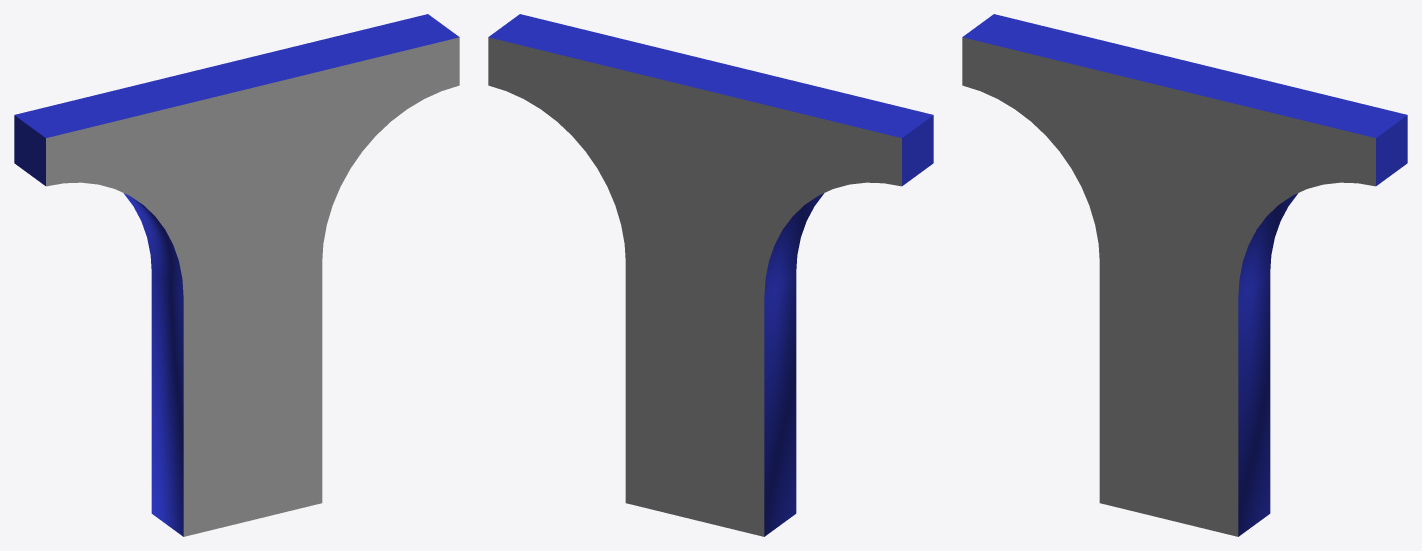
The model's file is Arch_01b.fbx.
The picture shows the model from 3 angles, left to right: view 1: azimuth 30°, elevation 25°; view 2: azimuth 150°, elevation 25°; view 3: azimuth 330°, elevation 25°; orthographic projection.
Visible parts, largest first — view 1: Arch_01b; view 2: Arch_01b; view 3: Arch_01b.
Part boxes in pixels (x1,y1,x2,y2): Arch_01b: (14,14,459,536); Arch_01b: (488,14,933,536); Arch_01b: (962,14,1407,536).
Size of the model in its own units: 3.01 by 0.4 by 3.
